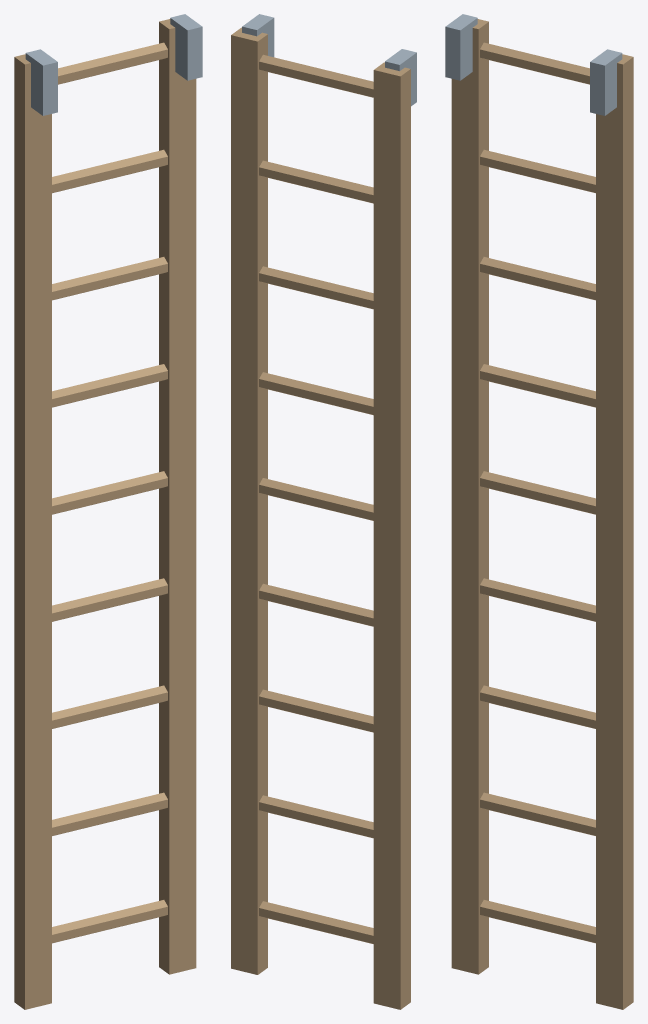
Rendered from wipe-day-survival-island-wooden-ladder-c7c97569__27477.glb.
3 views of the same model, side by side, from view 1: azimuth 30°, elevation 25°; view 2: azimuth 150°, elevation 25°; view 3: azimuth 330°, elevation 25° (orthographic).
Visible parts, largest first — view 1: wooden-ladder; view 2: wooden-ladder; view 3: wooden-ladder.
Boxes of the visible parts, x1,y1,x2,y2 form: wooden-ladder: [14, 14, 202, 1009]; wooden-ladder: [231, 14, 416, 1009]; wooden-ladder: [445, 14, 633, 1009].
Size of the model in its own units: 0.5698 by 3.02 by 0.13.
